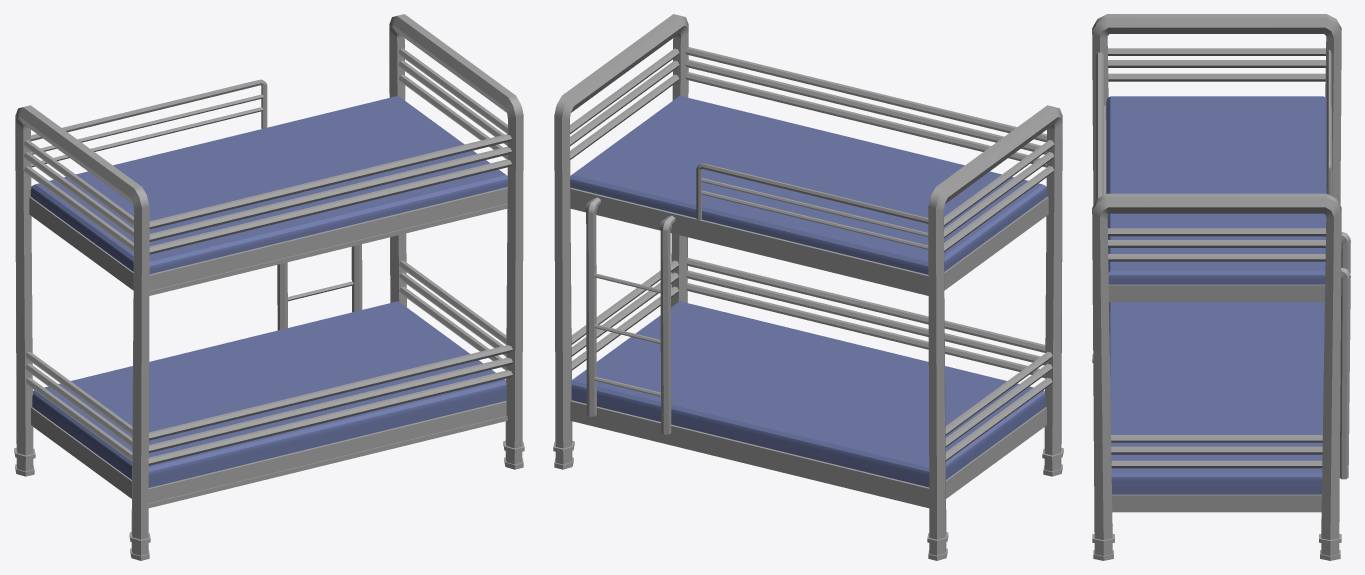
File: bunk bed.fbx
The picture shows the model from 3 angles, left to right: view 1: azimuth 30°, elevation 25°; view 2: azimuth 150°, elevation 25°; view 3: azimuth 270°, elevation 25°; orthographic projection.
Visible parts, largest first — view 1: Bunk_bed; view 2: Bunk_bed; view 3: Bunk_bed.
Part boxes in pixels (x1,y1,x2,y2): Bunk_bed: (14,14,524,560); Bunk_bed: (553,14,1063,560); Bunk_bed: (1092,14,1350,560).
Size of the model in its own units: 6.28 by 5.6 by 3.64.
